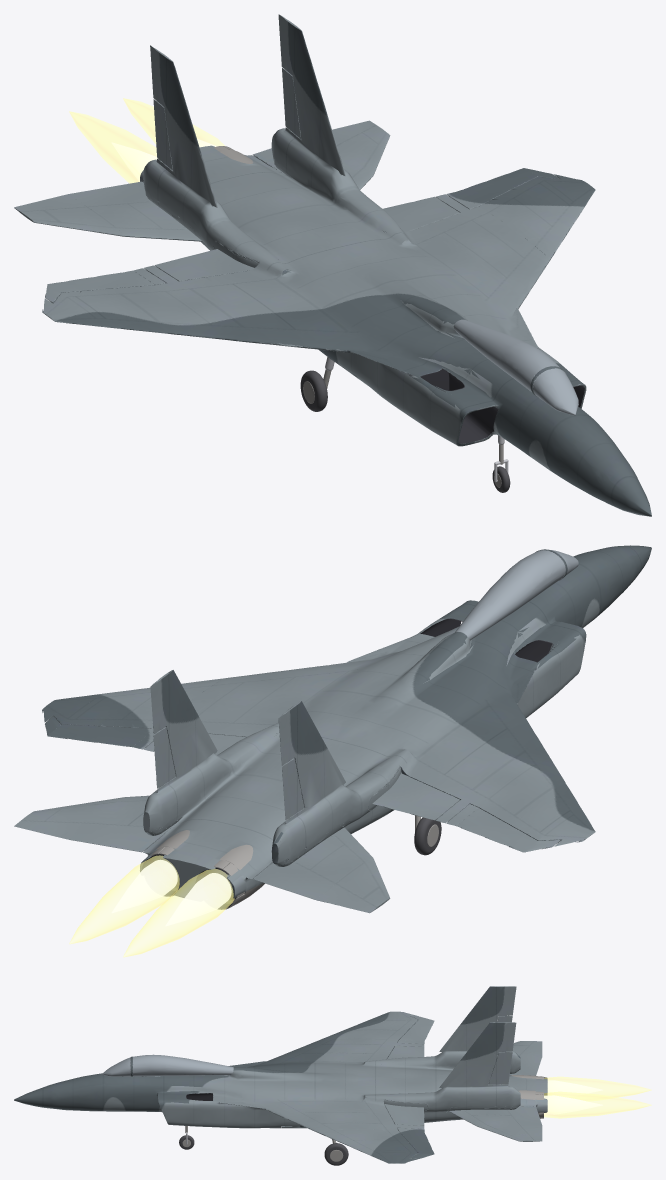
3 renders of one model, top to bottom at view 1: azimuth 30°, elevation 25°; view 2: azimuth 150°, elevation 25°; view 3: azimuth 270°, elevation 25°, orthographic. The views are drawn at different scales.
Parts seen in each view (by area): view 1: airframe, fsim:elevator+aileron:-0.5@-25,15, fsim:aileron (×2), fsim:flaps (×2), fsim:afterburner:1, fsim:elevator+aileron:0.5@-25,15, fsim:rudder (×2), fsim:afterburner:0, fsim:wheel:2:0.438; view 2: airframe, fsim:elevator+aileron:-0.5@-25,15, fsim:elevator+aileron:0.5@-25,15, fsim:afterburner:1, fsim:afterburner:0, fsim:aileron (×2), fsim:flaps, fsim:rudder (×2), fsim:wheel:2:0.438; view 3: airframe, fsim:elevator+aileron:0.5@-25,15, fsim:afterburner:0, fsim:afterburner:1, fsim:aileron (×2), fsim:flaps (×2), fsim:elevator+aileron:-0.5@-25,15, fsim:rudder, fsim:wheel:1:0.438.
Boxes of the visible parts, box(x1,y1,x2,y2) form: airframe: box(42, 14, 651, 516); fsim:elevator+aileron:-0.5@-25,15: box(14, 181, 202, 241); fsim:aileron (×2): box(45, 168, 559, 303); fsim:flaps (×2): box(154, 196, 459, 281); fsim:afterburner:1: box(69, 111, 157, 183); fsim:elevator+aileron:0.5@-25,15: box(253, 120, 390, 189); fsim:rudder (×2): box(153, 68, 300, 170); fsim:afterburner:0: box(123, 98, 224, 147); fsim:wheel:2:0.438: box(300, 370, 327, 411); airframe: box(42, 545, 651, 904); fsim:elevator+aileron:-0.5@-25,15: box(253, 827, 390, 913); fsim:elevator+aileron:0.5@-25,15: box(14, 795, 175, 852); fsim:afterburner:1: box(123, 869, 234, 957); fsim:afterburner:0: box(69, 855, 179, 943); fsim:aileron (×2): box(45, 716, 560, 852); fsim:flaps: box(372, 773, 459, 820); fsim:rudder (×2): box(153, 727, 304, 819); fsim:wheel:2:0.438: box(414, 817, 441, 855); airframe: box(14, 986, 547, 1163); fsim:elevator+aileron:0.5@-25,15: box(449, 1106, 542, 1141); fsim:afterburner:0: box(544, 1091, 651, 1118); fsim:afterburner:1: box(544, 1076, 651, 1101); fsim:aileron (×2): box(397, 1016, 434, 1158); fsim:flaps (×2): box(384, 1045, 424, 1125); fsim:elevator+aileron:-0.5@-25,15: box(510, 1041, 542, 1075); fsim:rudder: box(488, 1052, 512, 1084); fsim:wheel:1:0.438: box(324, 1143, 348, 1165).
Size of the model in its own units: 13.05 by 5.82 by 23.22.
8 materials, 1 textured.
